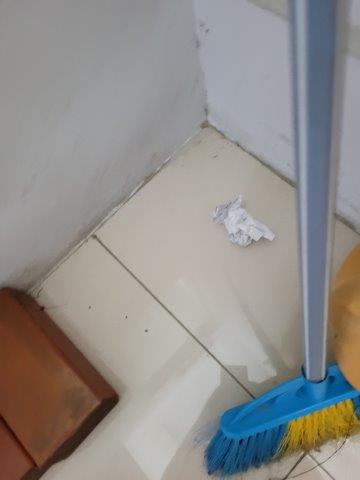kertas: (213, 194, 275, 250)
